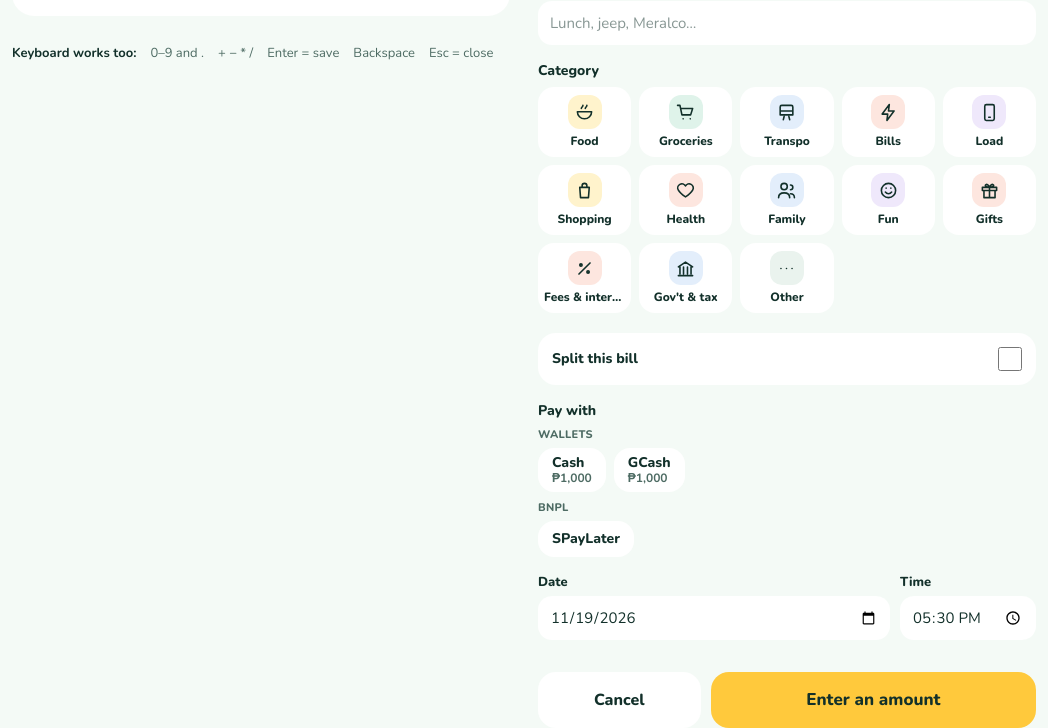
TransactionForm › won't save without an amount
(page scrolled)
Click the button "Enter an amount".
click(873, 700)  # box [711,672,1036,727]
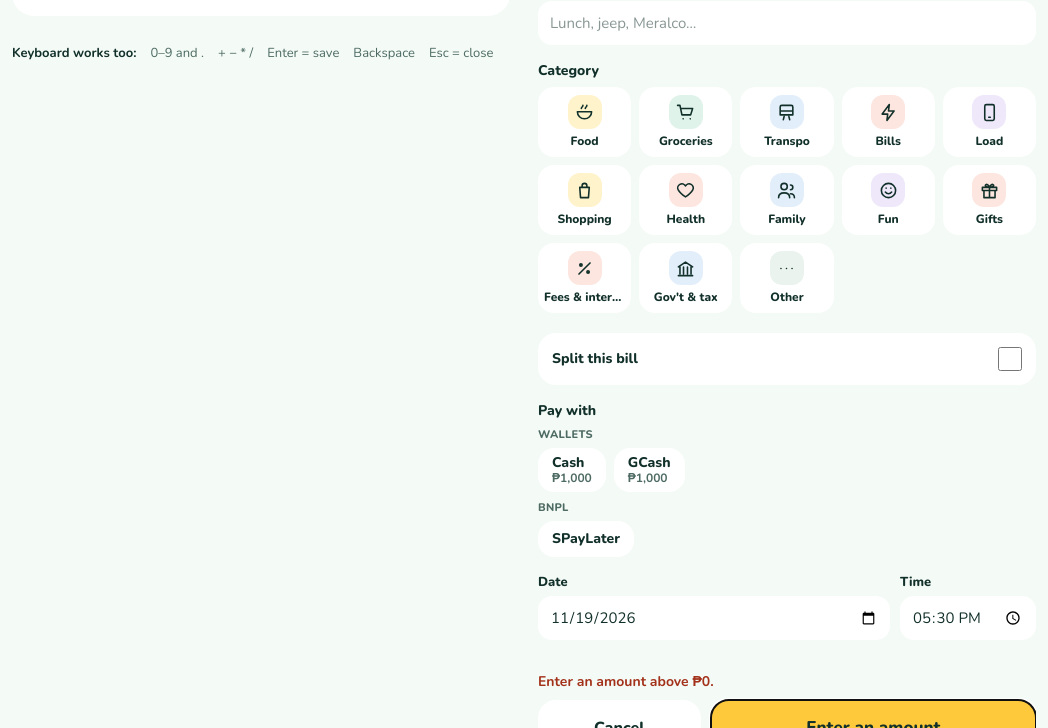
Now the message reads "Enter an amount above ₱0.", box [538,672,714,691]
